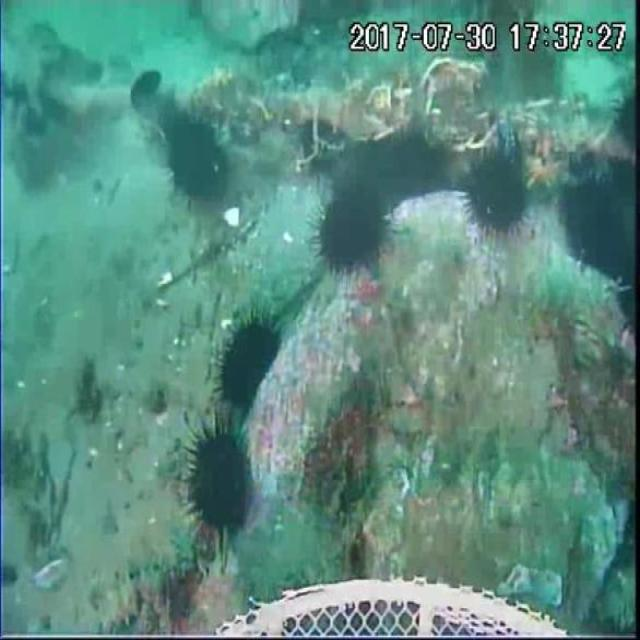echinus: (170, 409, 260, 542), (562, 171, 639, 277), (215, 312, 282, 417), (318, 186, 391, 274), (464, 147, 531, 240), (363, 130, 450, 198), (170, 116, 232, 205), (612, 91, 640, 153)
holothurian: (90, 557, 172, 635)
